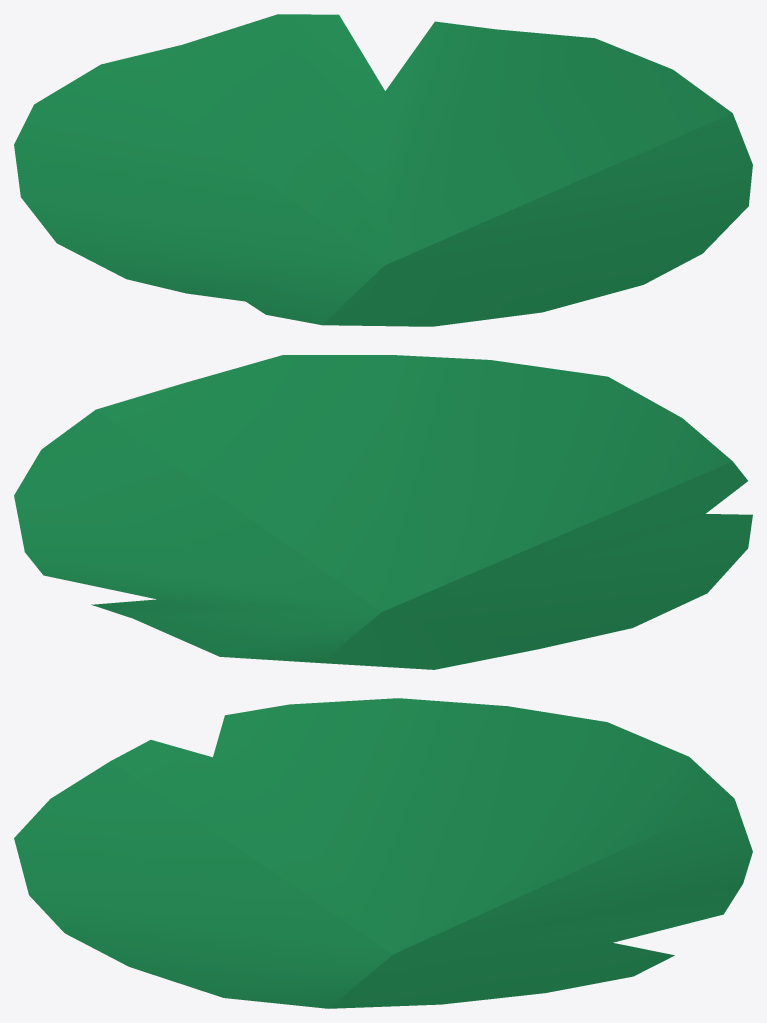
Rendered from plant_mushroom_leaf_C_chip.fbx.
3 renders of one model, top to bottom at view 1: azimuth 30°, elevation 25°; view 2: azimuth 150°, elevation 25°; view 3: azimuth 270°, elevation 25°, orthographic.
Parts seen in each view (by area): view 1: plant_mushroom_leaf_C_chip; view 2: plant_mushroom_leaf_C_chip; view 3: plant_mushroom_leaf_C_chip.
Part boxes in pixels (bbox=[...]): plant_mushroom_leaf_C_chip: bbox=[14, 14, 752, 326]; plant_mushroom_leaf_C_chip: bbox=[14, 355, 752, 669]; plant_mushroom_leaf_C_chip: bbox=[14, 698, 752, 1008].
Bounding box in the file's own units: 28.47 × 4.51 × 28.66.
